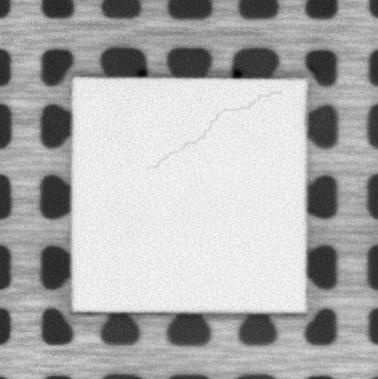DIE_CRACK: (154, 87, 282, 170)
